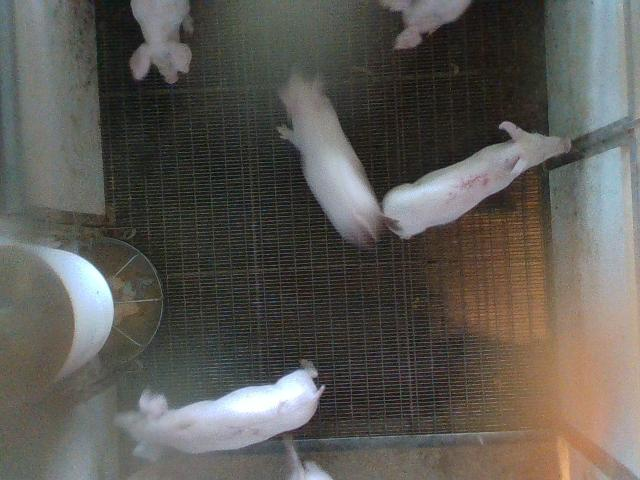pig-5: (382, 122, 570, 238)
